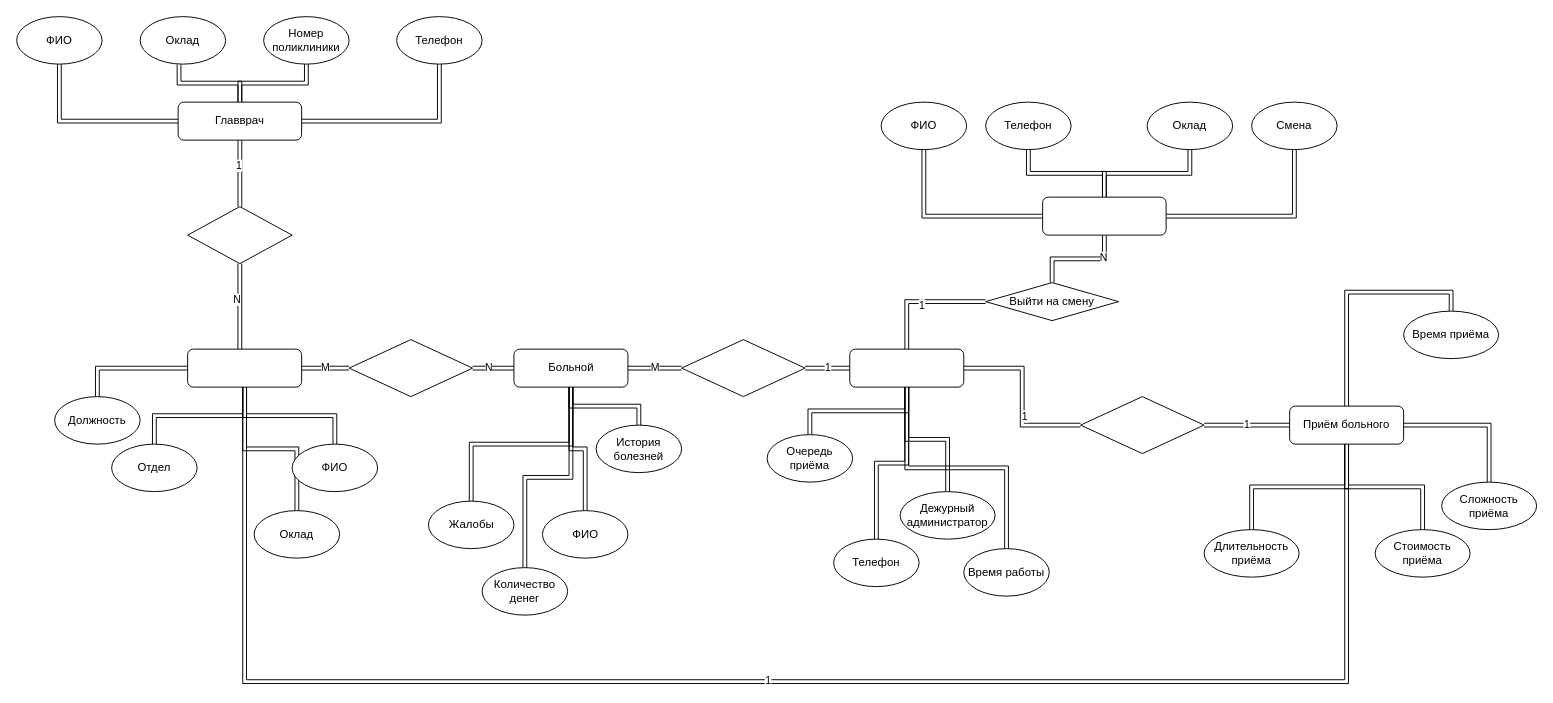
Some shapes in this 1553 by 703 pixel diagram are drawn without their labels. Here are the shapes that lost their labels. From the top down, the box of each, then its label:
(187, 206, 292, 264): Нанимать
(1042, 196, 1166, 235): Администратор поликлиники
(187, 348, 302, 387): Принимающий врач
(348, 339, 473, 397): Лечить
(681, 339, 805, 397): Записаться
(849, 348, 964, 387): Регистратура
(1080, 396, 1204, 454): Направить
